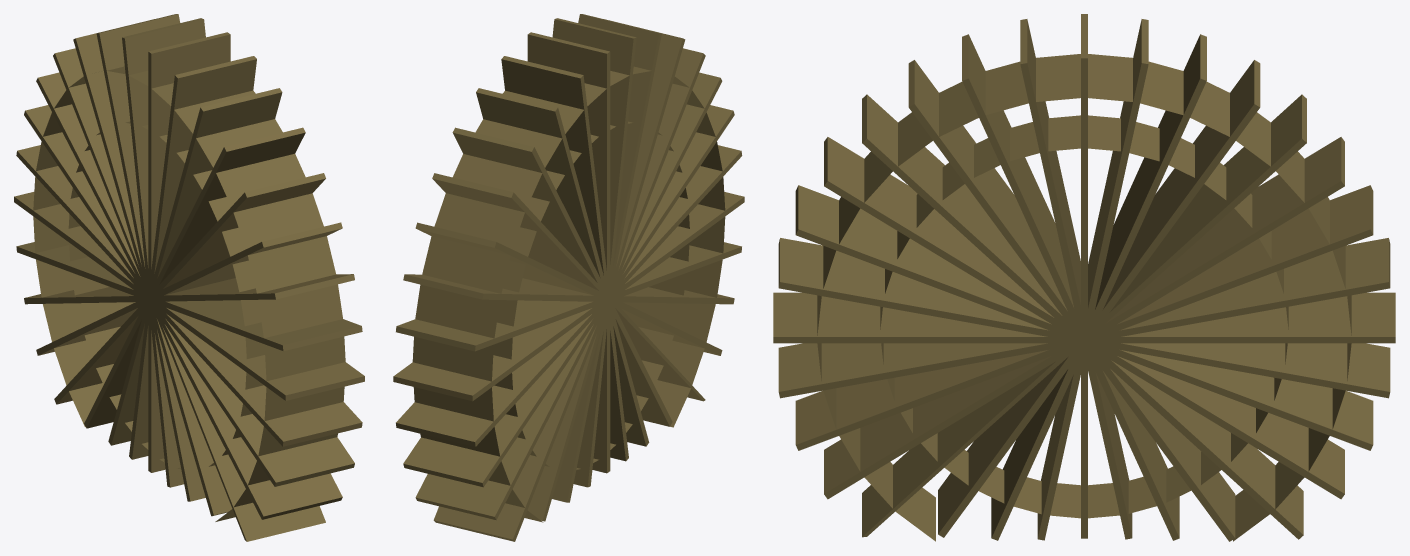
File: paddle-wheel.dae
3 renders of one model, left to right at view 1: azimuth 30°, elevation 25°; view 2: azimuth 150°, elevation 25°; view 3: azimuth 270°, elevation 25°, orthographic. The views are drawn at different scales.
Parts seen in each view (by area): view 1: Cylinder_006; view 2: Cylinder_006; view 3: Cylinder_006.
Boxes of the visible parts, x1=… form: Cylinder_006: x1=14, y1=14, x2=364, y2=541; Cylinder_006: x1=393, y1=14, x2=744, y2=541; Cylinder_006: x1=773, y1=14, x2=1395, y2=541.
Bounding box in the file's own units: 0.4648 × 2.76 × 2.37.
